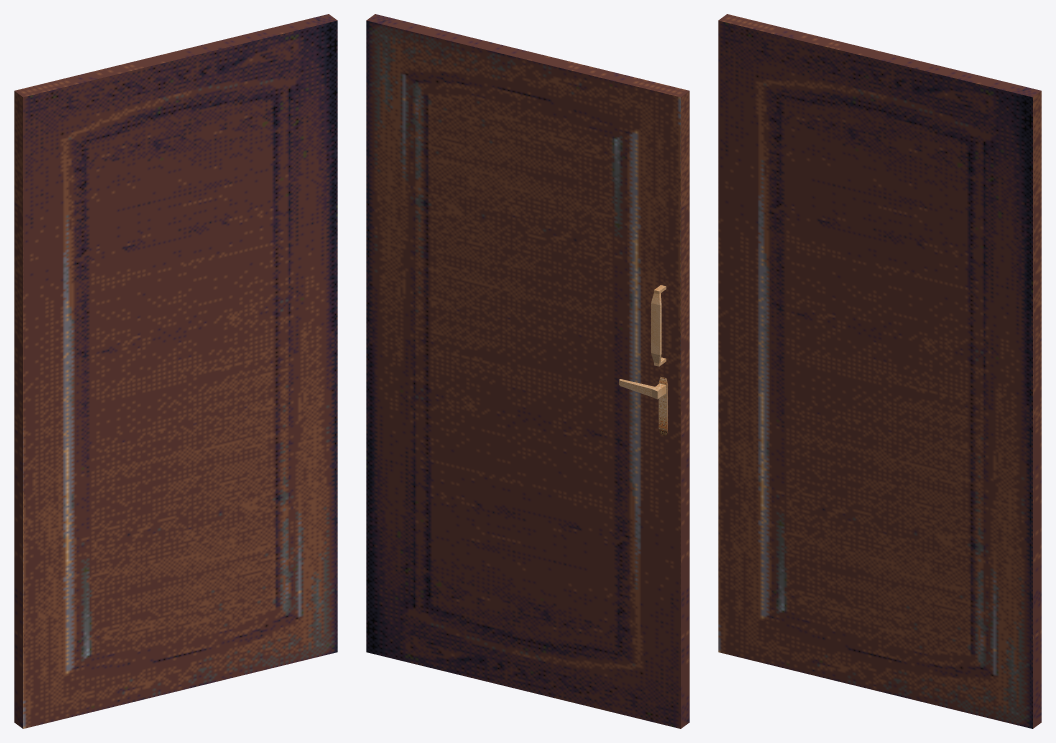
The model's file is door_02.glb.
3 views of the same model, side by side, from view 1: azimuth 30°, elevation 25°; view 2: azimuth 150°, elevation 25°; view 3: azimuth 330°, elevation 25° (orthographic).
Visible parts, largest first — view 1: polySurface39.001; view 2: polySurface39.001; view 3: polySurface39.001.
Part boxes in pixels (x1,y1,x2,y2): polySurface39.001: (14,14,337,728); polySurface39.001: (366,14,689,728); polySurface39.001: (718,14,1041,728).
Bounding box in the file's own units: 1.09 × 2.1 × 0.1101.
Materials: 2 (2 with a texture image).
